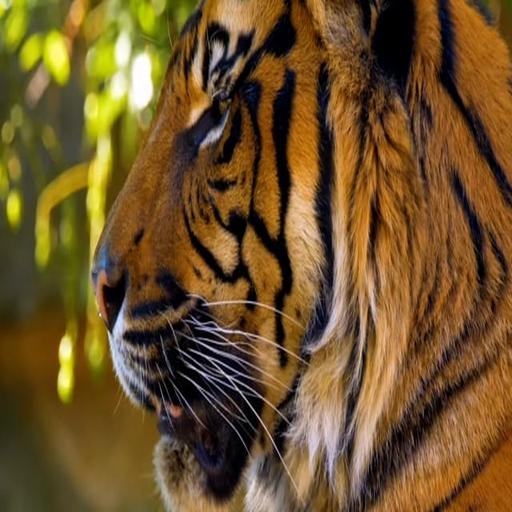Tiger: (86, 0, 512, 512)
